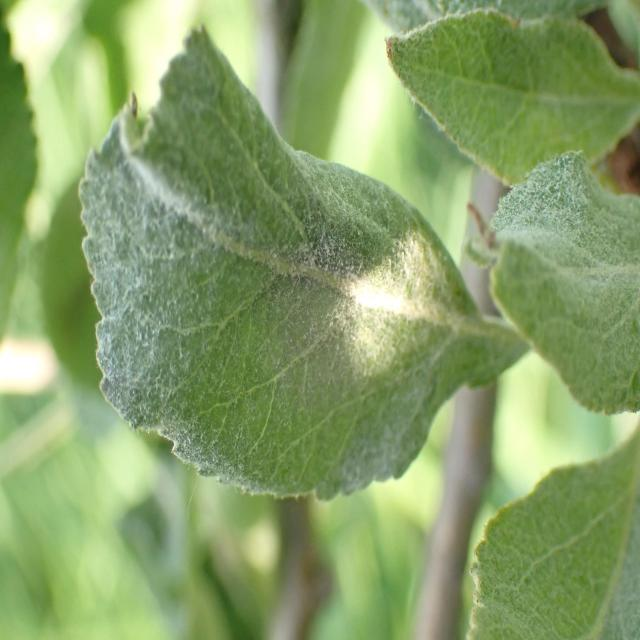Powdery_mildew: (67, 37, 474, 514), (382, 11, 640, 198), (455, 403, 640, 640), (480, 148, 640, 402)
